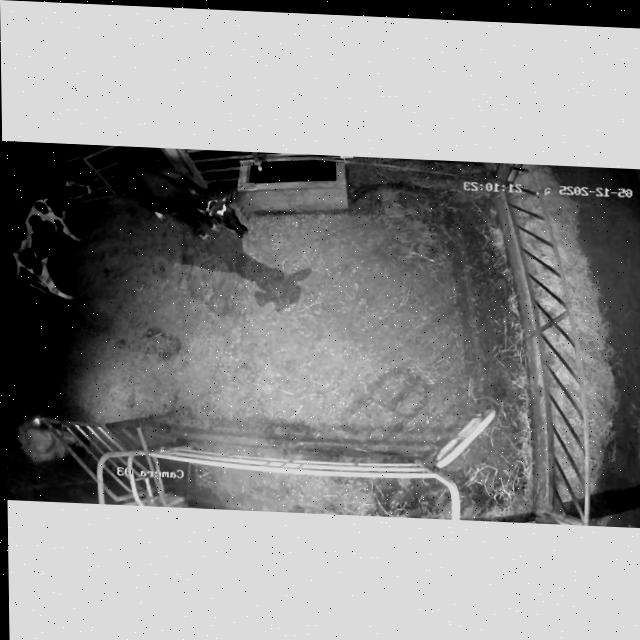stand: (112, 146, 256, 252), (10, 168, 101, 302)
